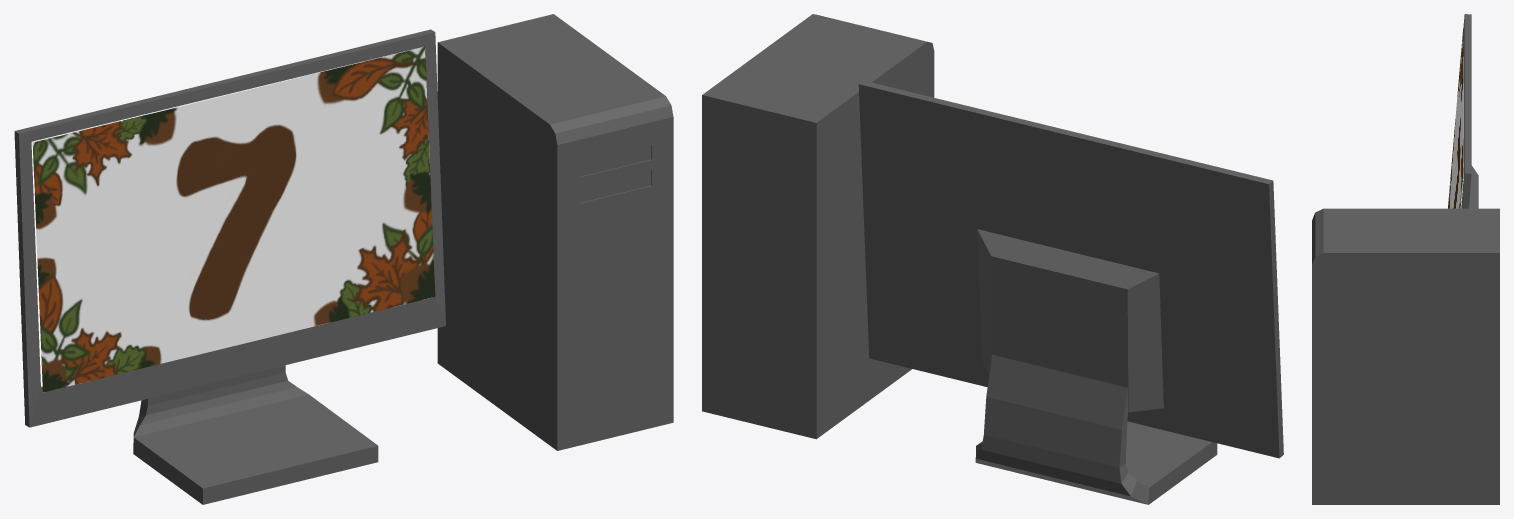
File: computer7.gltf
3 renders of one model, left to right at view 1: azimuth 30°, elevation 25°; view 2: azimuth 150°, elevation 25°; view 3: azimuth 270°, elevation 25°, orthographic. The views are drawn at different scales.
Visible parts, largest first — view 1: computer.001, Fläche.001; view 2: computer.001; view 3: computer.001, Fläche.001.
Part boxes in pixels (x1=…): computer.001: x1=14, y1=14, x2=673, y2=504; Fläche.001: x1=32, y1=47, x2=435, y2=392; computer.001: x1=702, y1=14, x2=1283, y2=504; computer.001: x1=1312, y1=14, x2=1499, y2=504; Fläche.001: x1=1448, y1=28, x2=1463, y2=208.
Bounding box in the file's own units: 5.37 × 3.26 × 2.
3 materials, 1 textured.
